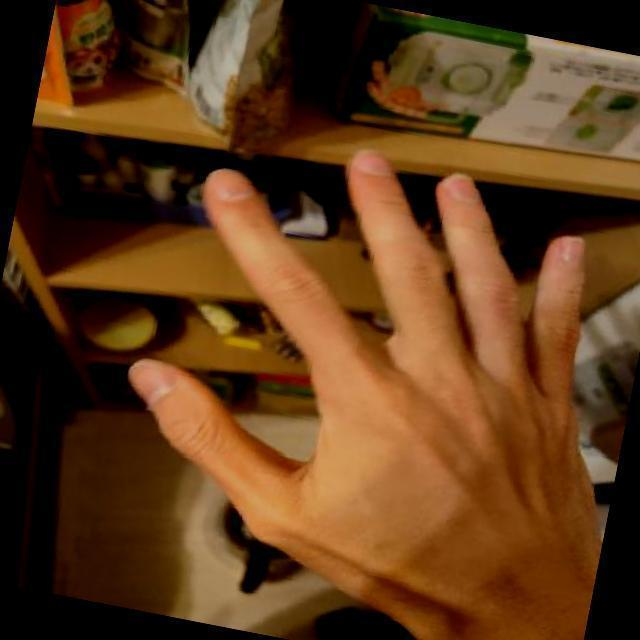hand: (80, 96, 640, 640)
